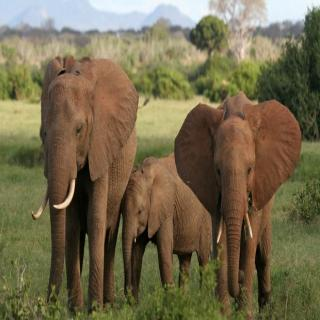Elephant: (171, 86, 305, 320), (35, 56, 142, 318), (120, 152, 213, 298)
